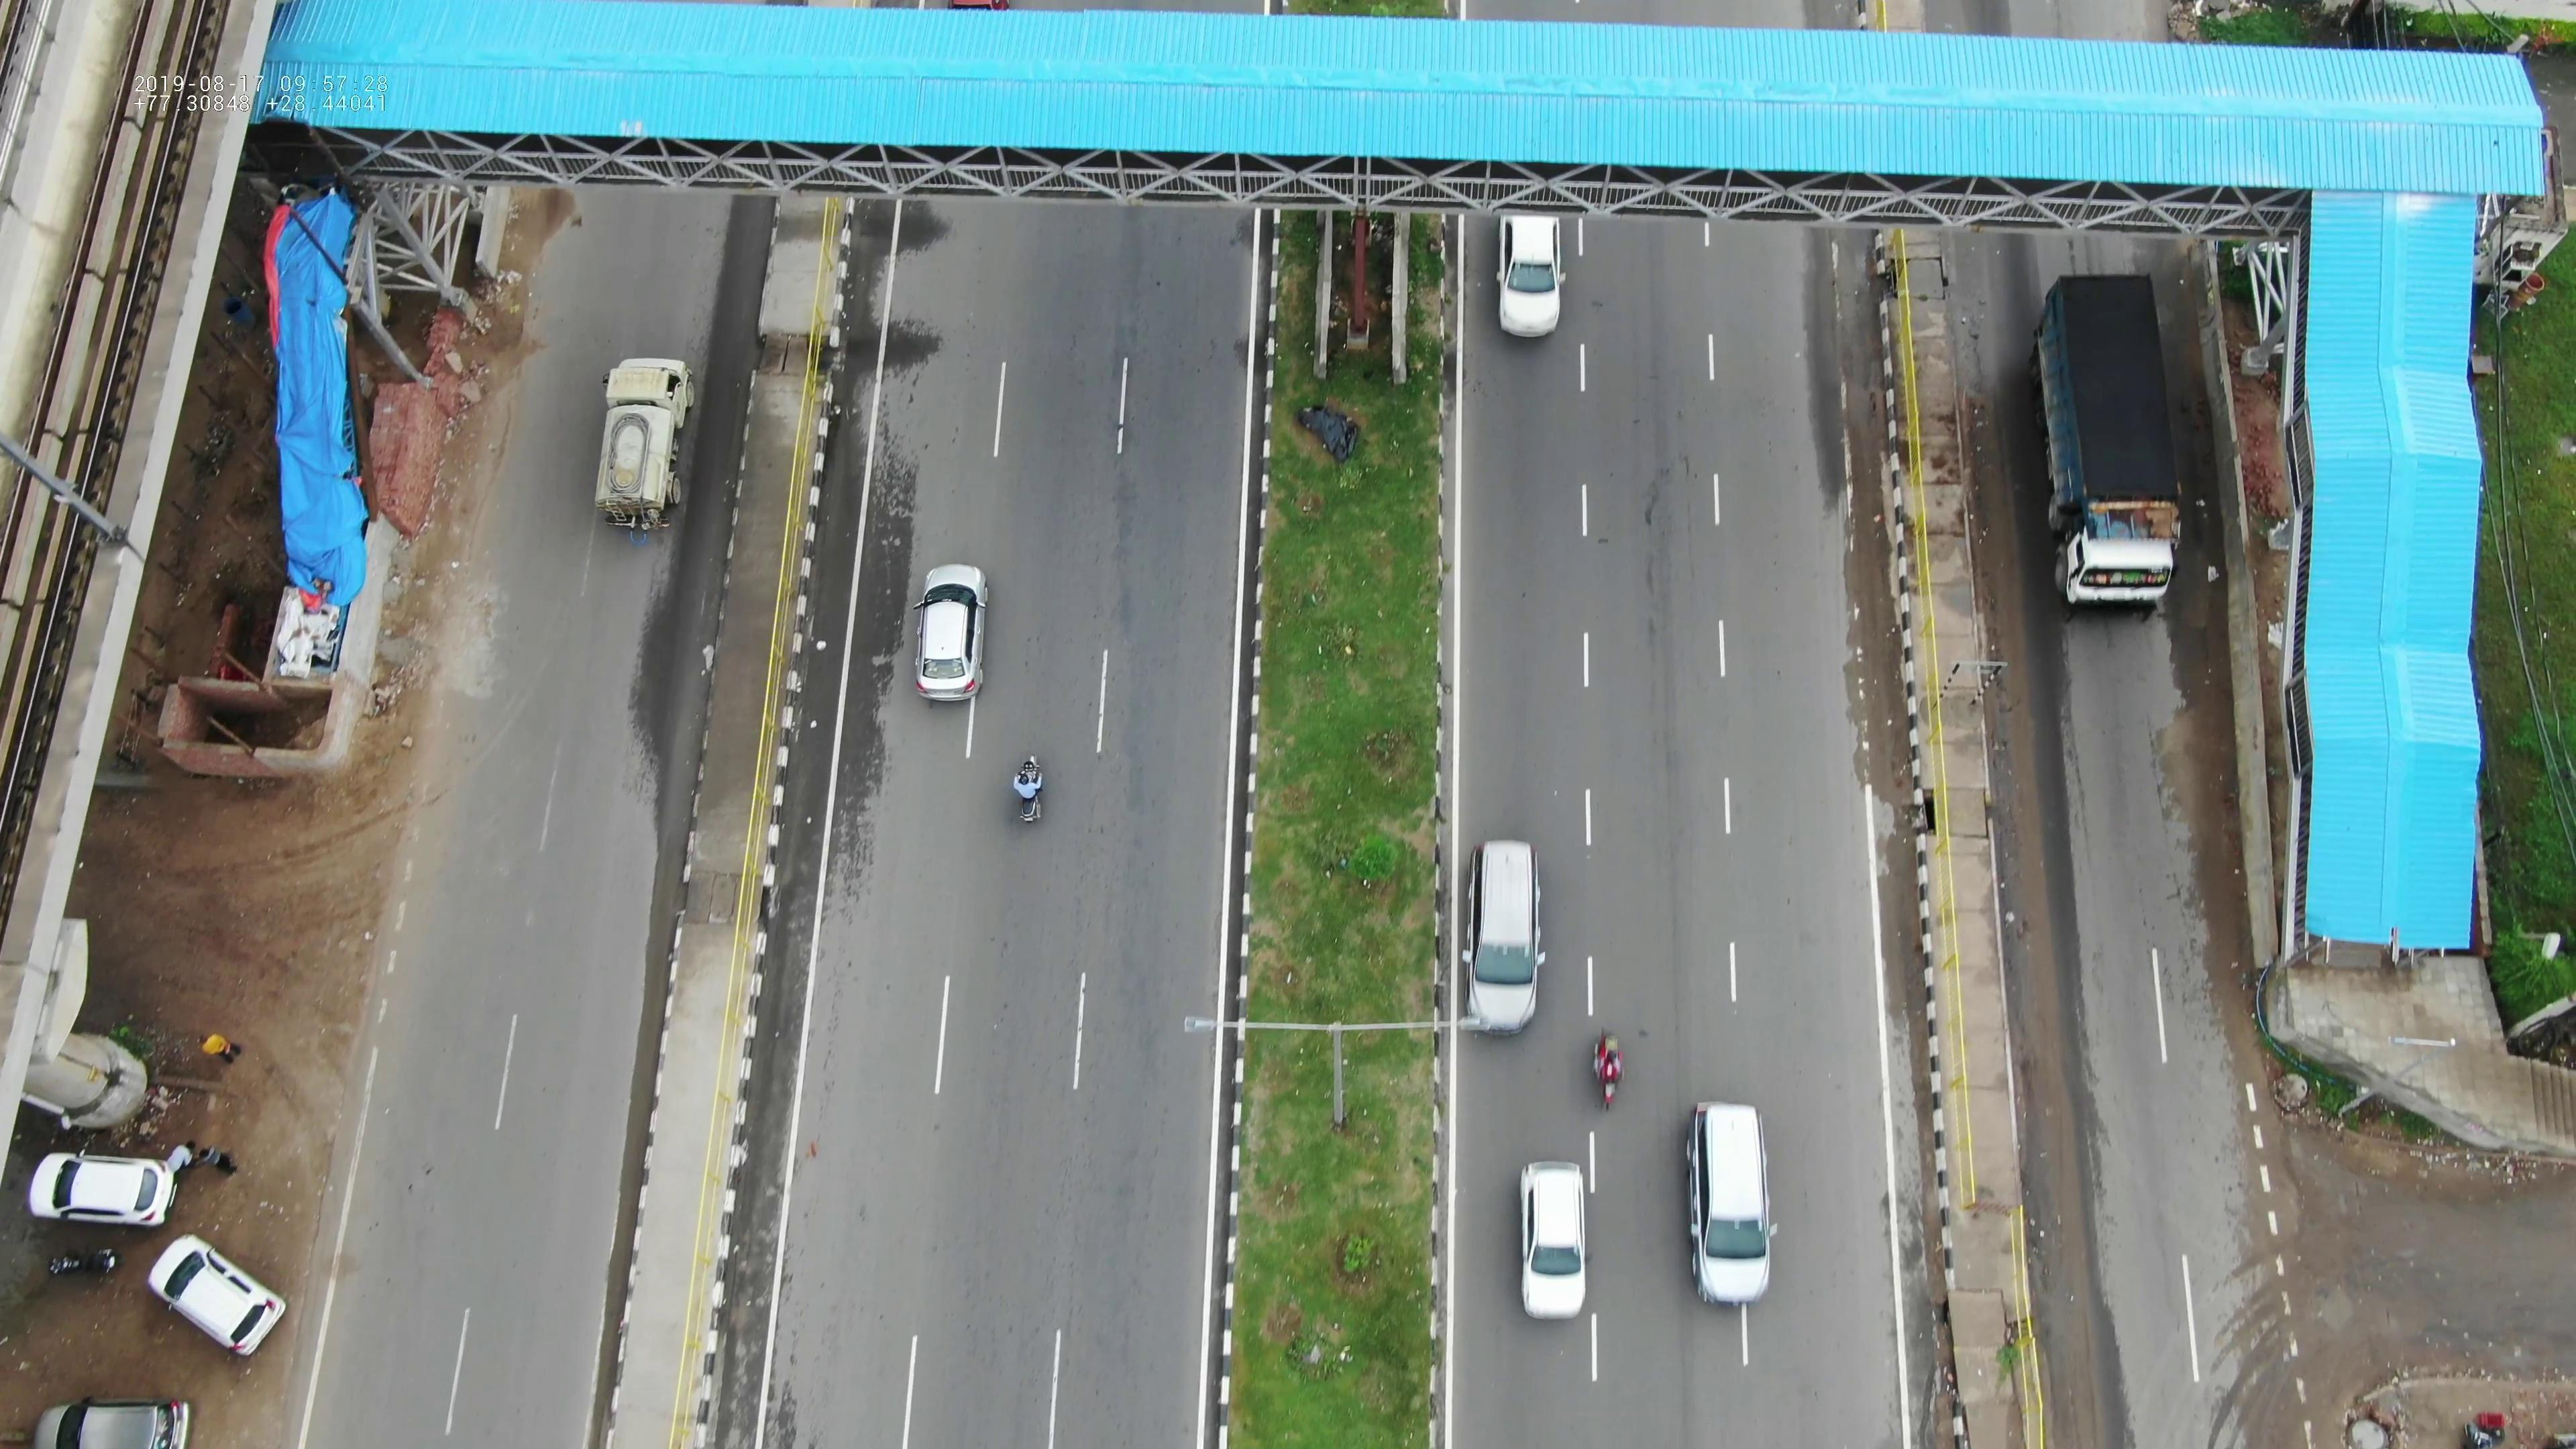Muddy_road: (1966, 419, 2068, 736), (2157, 662, 2268, 908), (1985, 759, 2089, 1000), (1842, 444, 1916, 727), (1849, 840, 1932, 1021)
